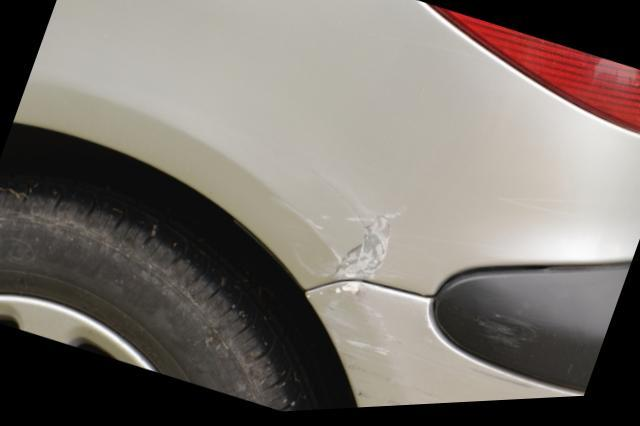scratch: (316, 291, 432, 411), (271, 199, 400, 290)
